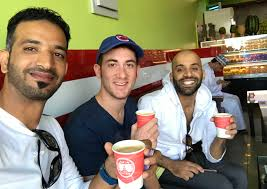middle_eastern_male: (9, 22, 67, 100), (174, 54, 202, 93)
